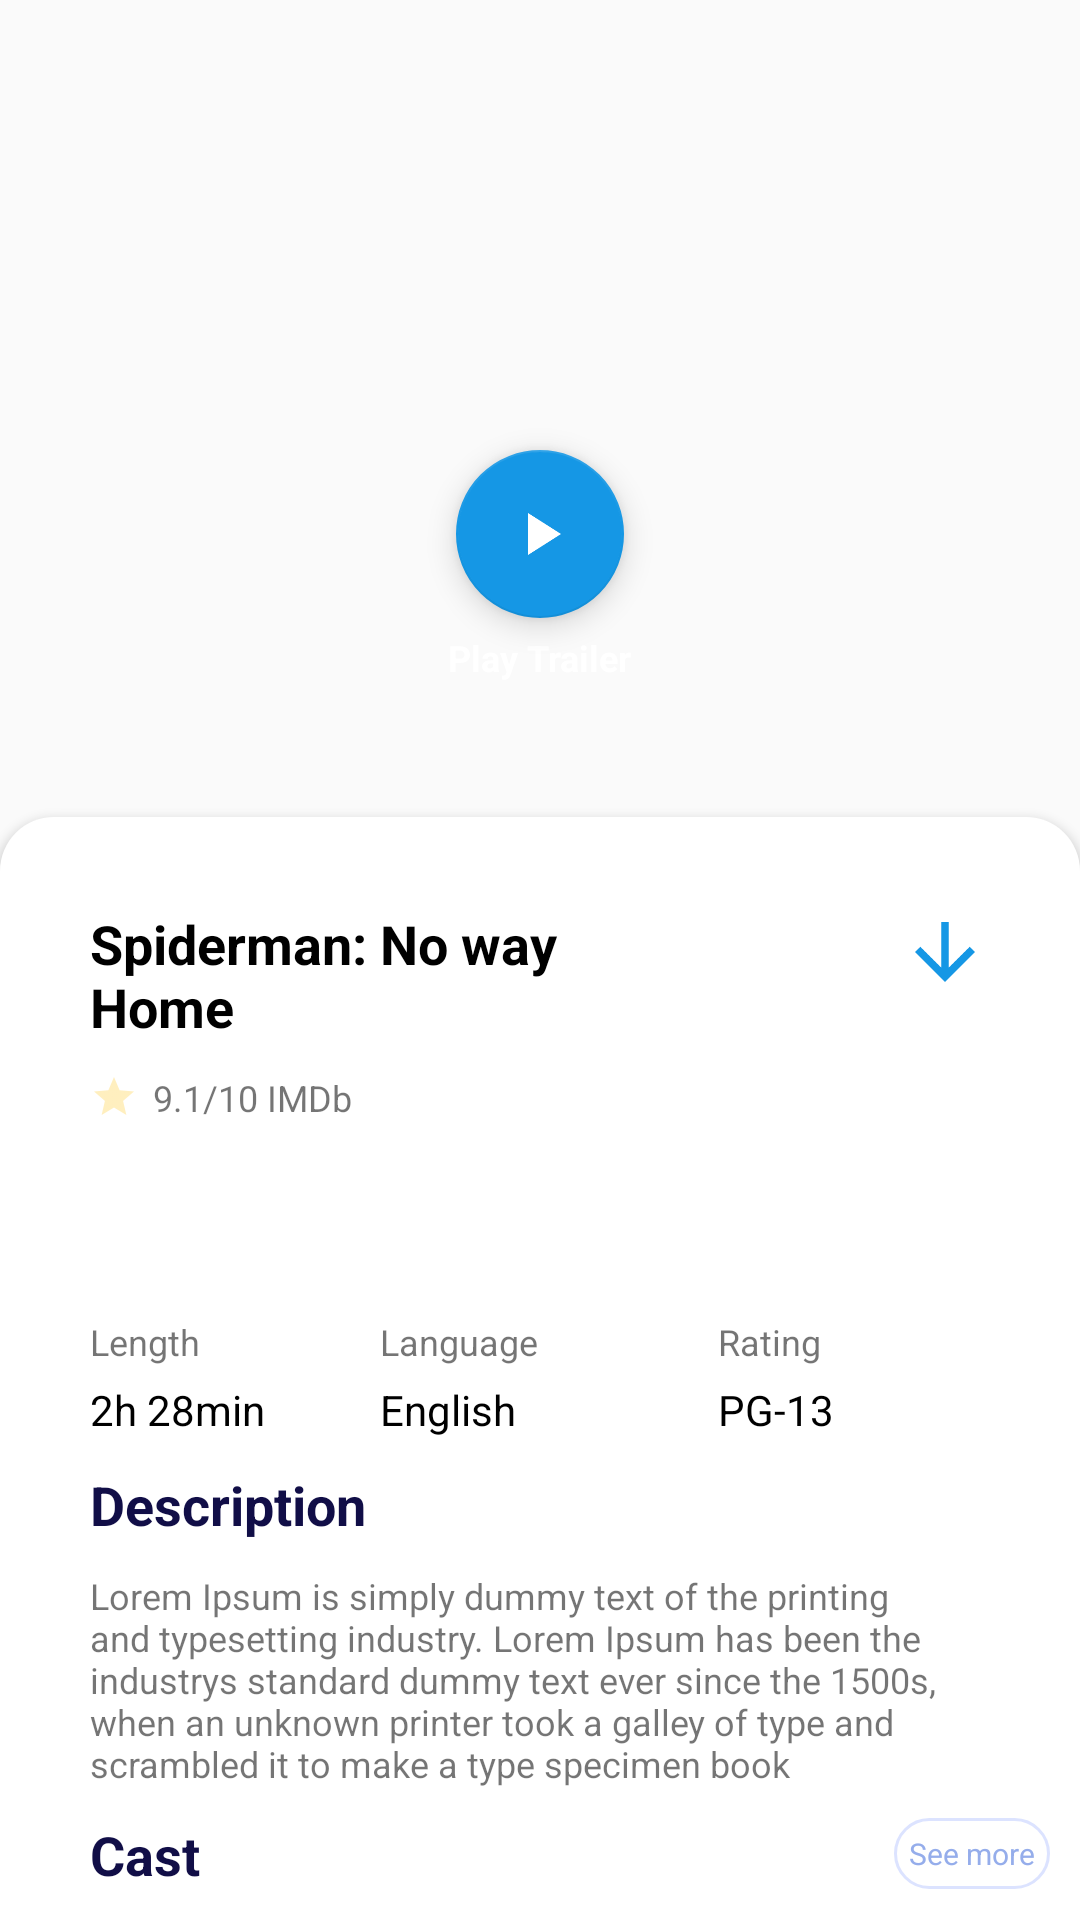

Icon bounding boxes for this 1080*1920 phone screenshot, format detection(x1, y1, x2, y2):
download: detection(915, 922, 975, 982)
